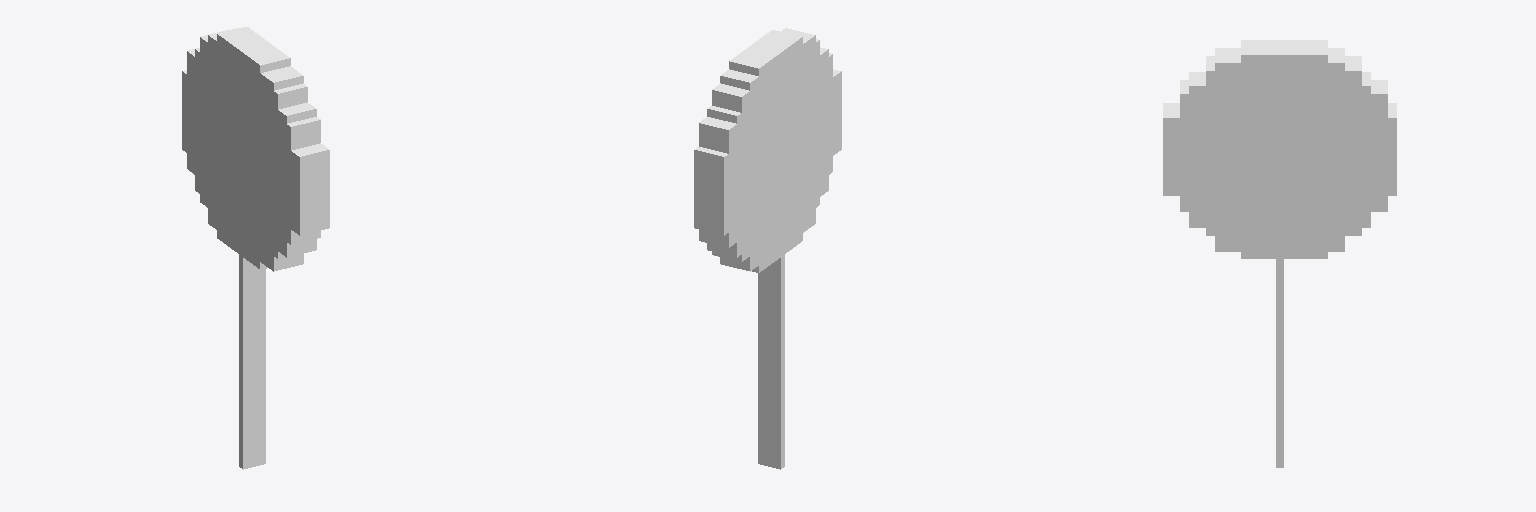
Rendered from Eruption-32.obj.
The picture shows the model from 3 angles: view 1: azimuth 30°, elevation 25°; view 2: azimuth 150°, elevation 25°; view 3: azimuth 270°, elevation 25°; orthographic projection.
Visible parts, largest first — view 1: object 1; view 2: object 1; view 3: object 1.
Boxes of the visible parts, x1,y1,x2,y2 form: object 1: [182, 27, 329, 469]; object 1: [694, 28, 841, 469]; object 1: [1163, 40, 1396, 467].
Bounding box in the file's own units: 0.4 × 5.3 × 2.7.